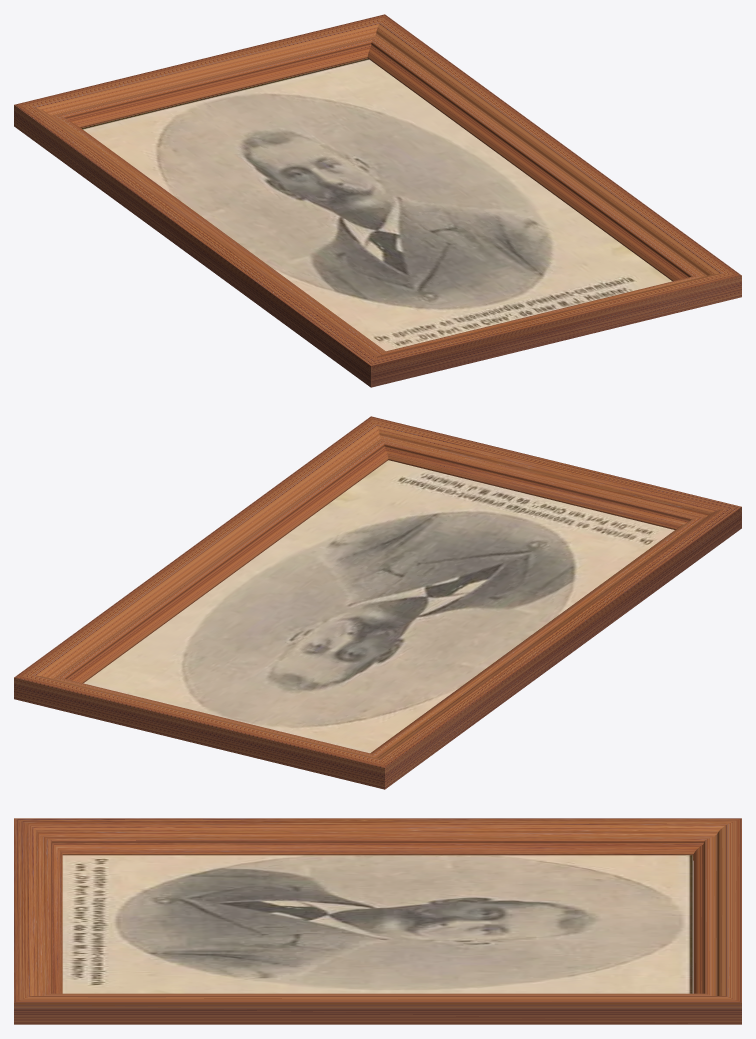
The model's file is frame2.glb.
3 renders of one model, top to bottom at view 1: azimuth 30°, elevation 25°; view 2: azimuth 150°, elevation 25°; view 3: azimuth 270°, elevation 25°, orthographic.
Parts seen in each view (by area): view 1: Cube; view 2: Cube; view 3: Cube.
Boxes of the visible parts, x1=… form: Cube: x1=14, y1=14, x2=741, y2=387; Cube: x1=14, y1=416, x2=741, y2=789; Cube: x1=14, y1=818, x2=741, y2=1024.
Size of the model in its own units: 18 by 1 by 30.
2 materials, 2 textured.
